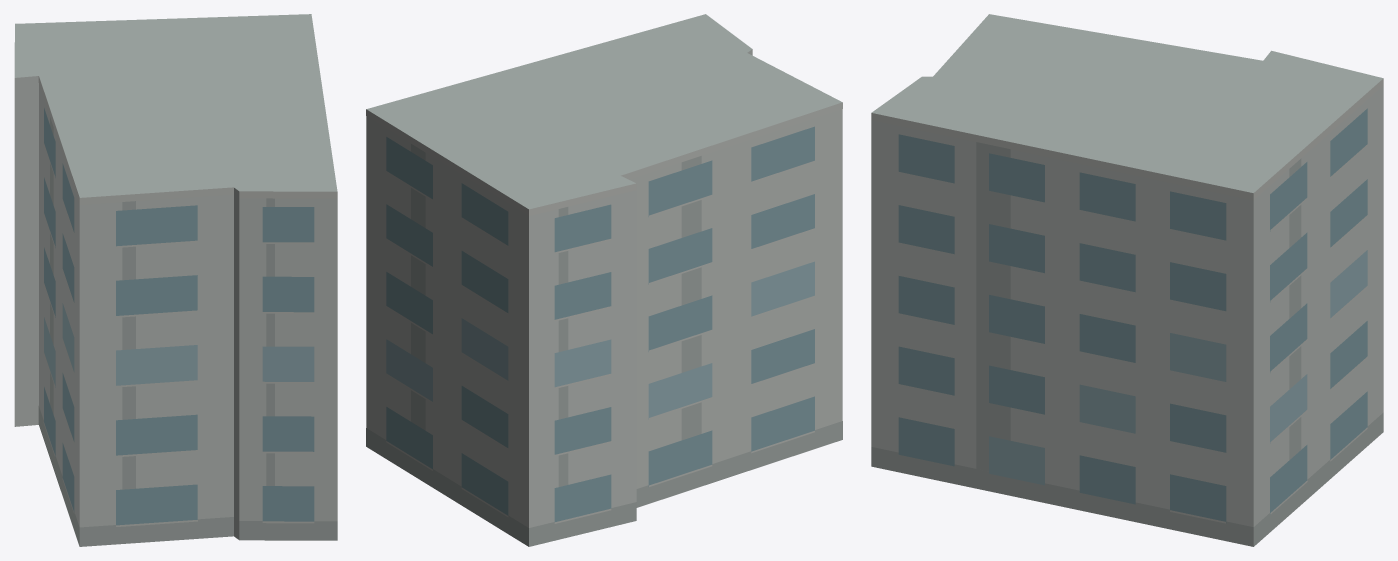
Rendered from survey-upis-32726263.glb.
The picture shows the model from 3 angles, left to right: view 1: azimuth 30°, elevation 25°; view 2: azimuth 150°, elevation 25°; view 3: azimuth 270°, elevation 25°; orthographic projection. The views are drawn at different scales.
Parts seen in each view (by area): view 1: survey-upis-32726263.tmp; view 2: survey-upis-32726263.tmp; view 3: survey-upis-32726263.tmp.
Boxes of the visible parts, x1=… form: survey-upis-32726263.tmp: x1=14, y1=14, x2=337, y2=546; survey-upis-32726263.tmp: x1=366, y1=14, x2=842, y2=546; survey-upis-32726263.tmp: x1=871, y1=14, x2=1383, y2=546.
Size of the model in its own units: 13.15 by 12.1 by 15.89.
